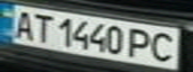0: (106, 24, 127, 56)
1: (51, 15, 75, 47)
4: (87, 20, 109, 53), (69, 18, 90, 51)
A: (6, 8, 39, 41)
C: (145, 29, 184, 64)
P: (124, 26, 157, 60)
T: (30, 11, 57, 43)
